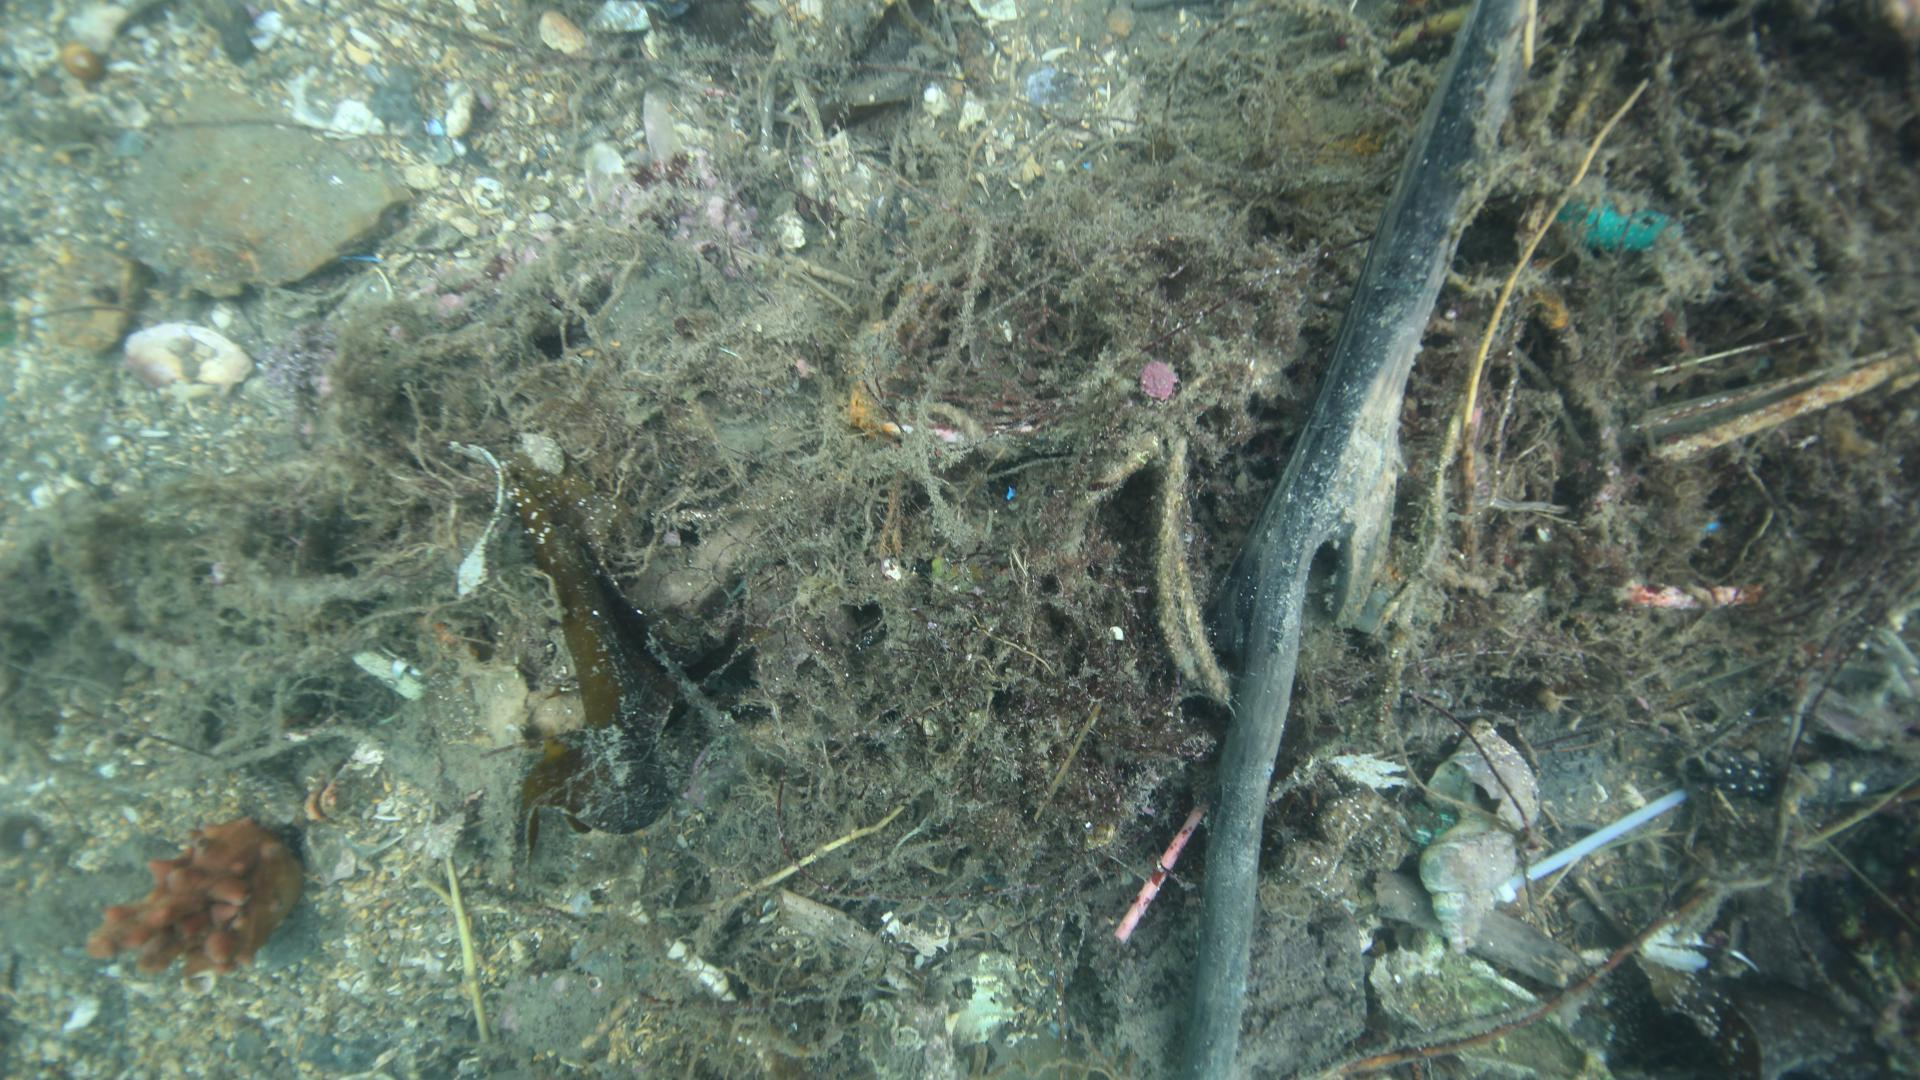wood: (1176, 0, 1523, 1080)
